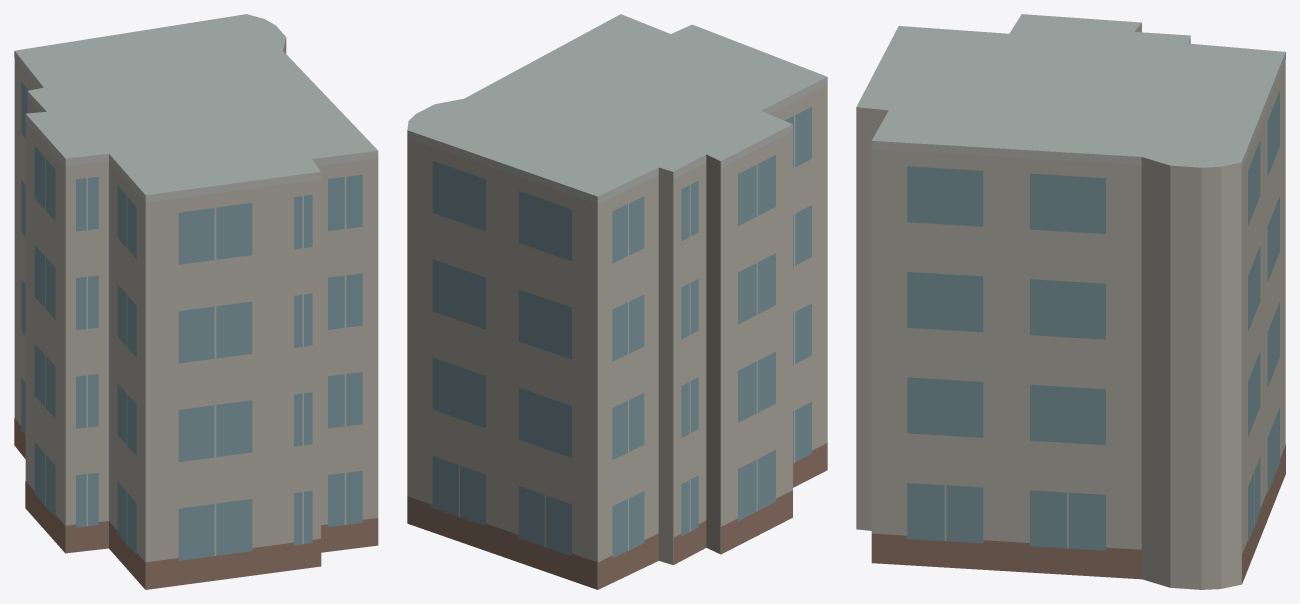
Rendered from survey-upis-32513330.glb.
3 views of the same model, side by side, from view 1: azimuth 30°, elevation 25°; view 2: azimuth 150°, elevation 25°; view 3: azimuth 270°, elevation 25° (orthographic). The views are drawn at different scales.
Parts seen in each view (by area): view 1: survey-upis-32513330.tmp; view 2: survey-upis-32513330.tmp; view 3: survey-upis-32513330.tmp.
Boxes of the visible parts, bbox=[...] form: survey-upis-32513330.tmp: bbox=[14, 14, 378, 589]; survey-upis-32513330.tmp: bbox=[407, 14, 827, 589]; survey-upis-32513330.tmp: bbox=[856, 14, 1285, 589].
Bounding box in the file's own units: 9.99 × 12.8 × 11.81.
